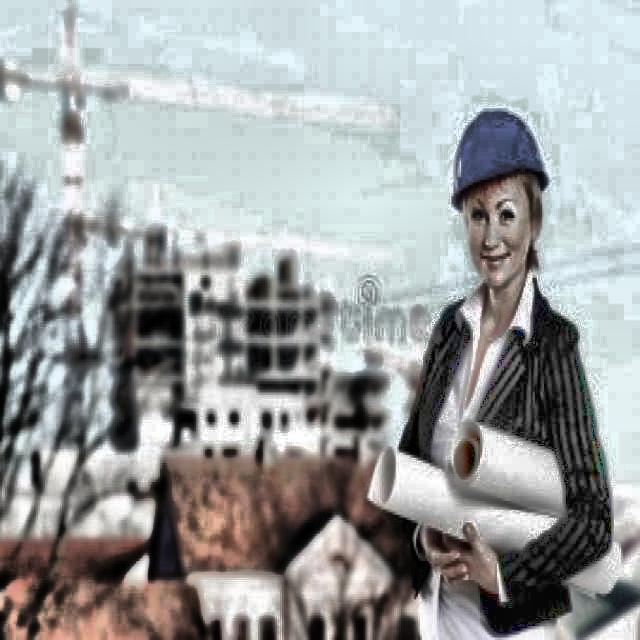bull_dozer/loader/grader: (1, 3, 404, 421)
person: (399, 106, 614, 640)
